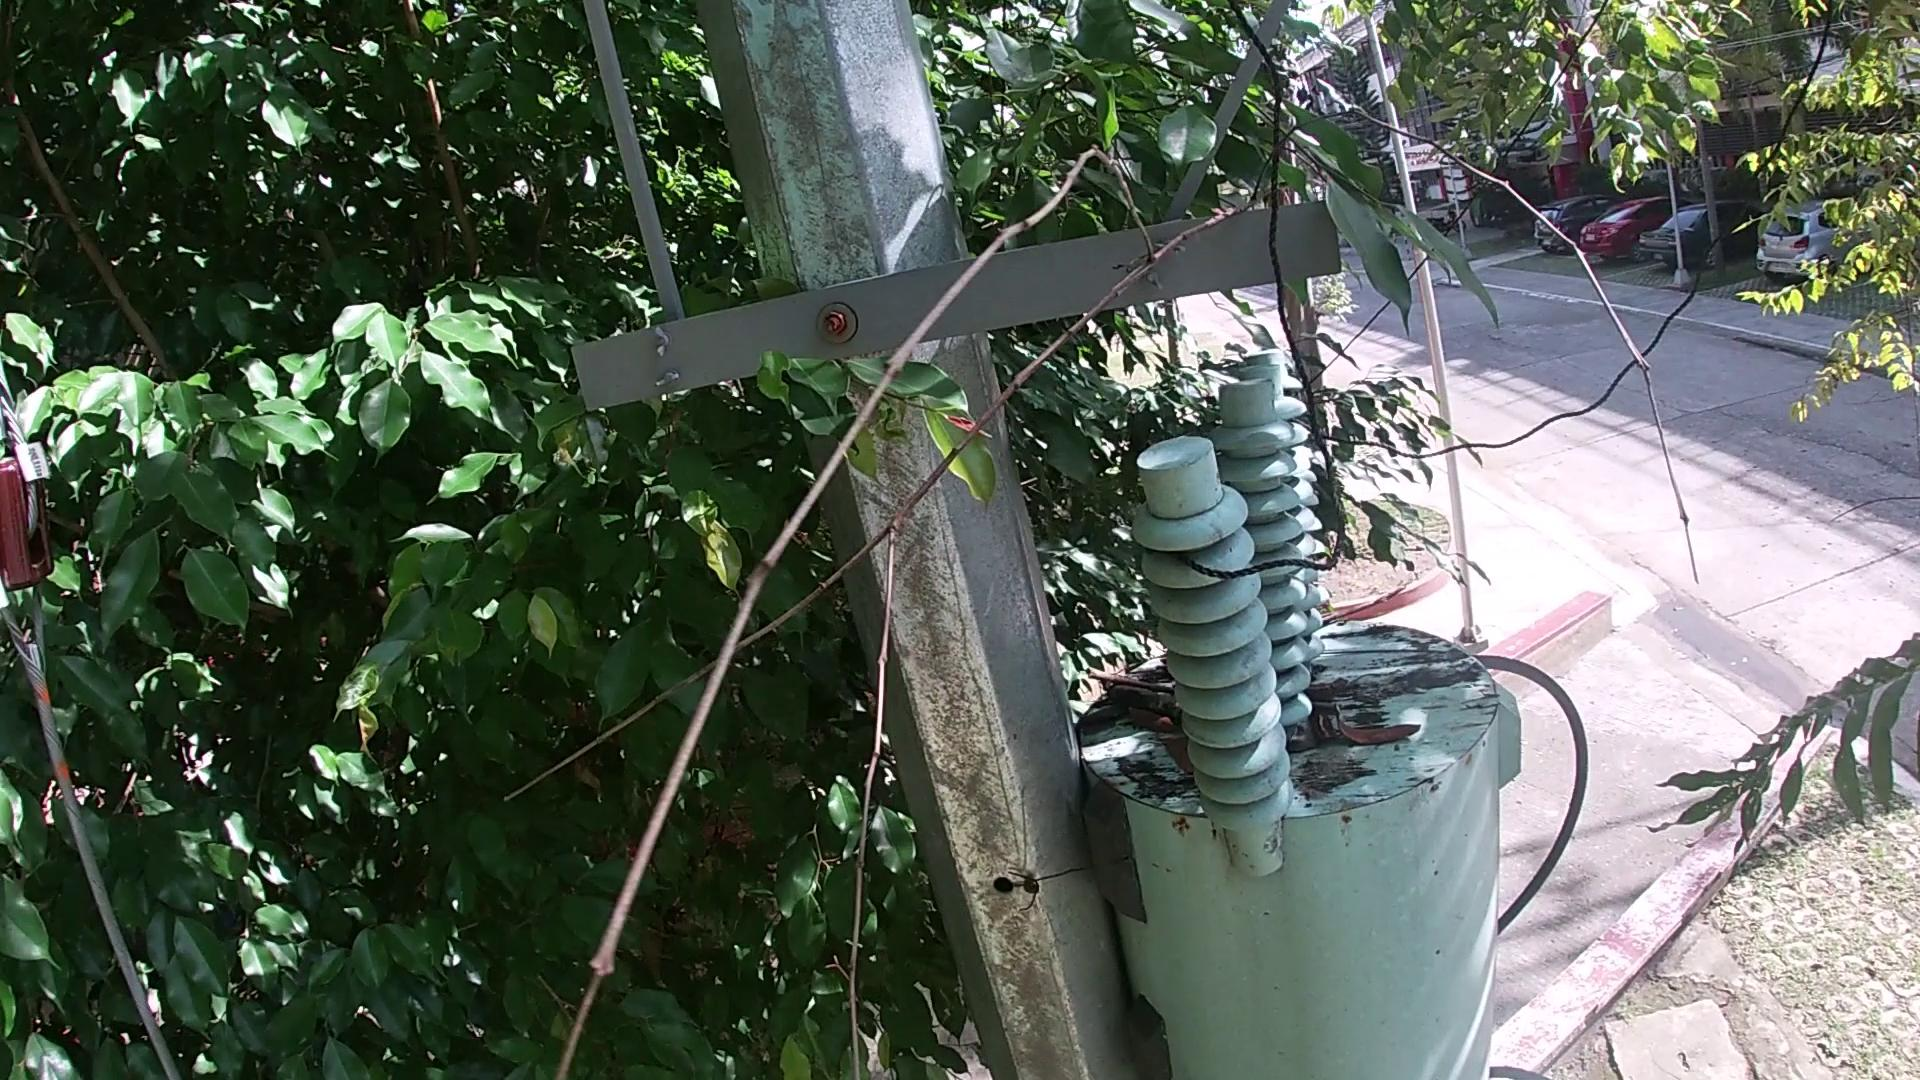leaf: (1328, 702, 1427, 753), (1151, 731, 1197, 775), (1124, 702, 1178, 736)
tree branch: (491, 84, 1720, 1077), (1083, 667, 1179, 713), (1323, 585, 1408, 634)
